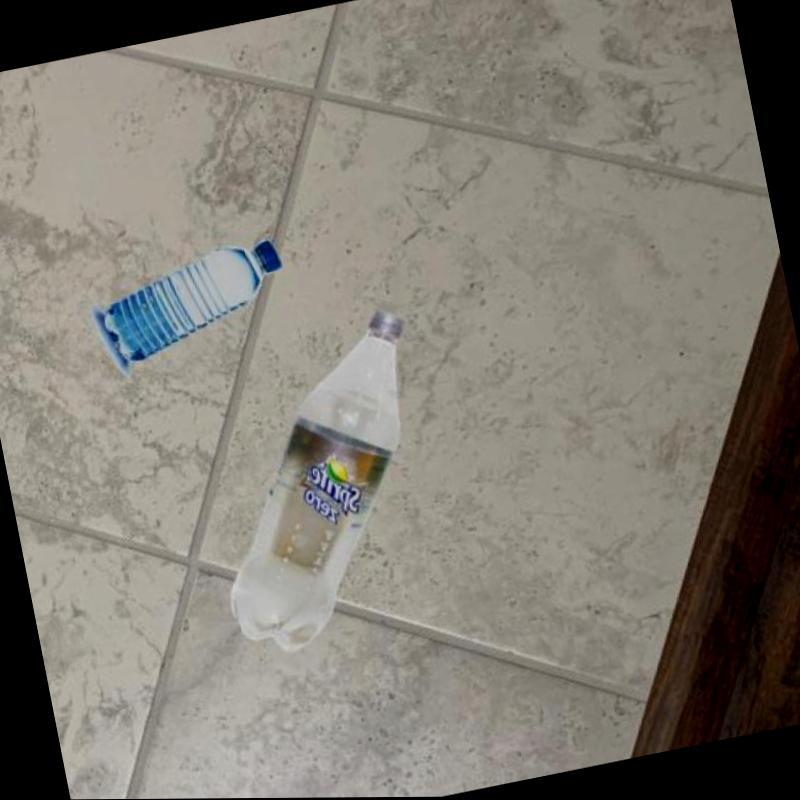botella: (173, 300, 457, 663), (90, 233, 296, 368)
